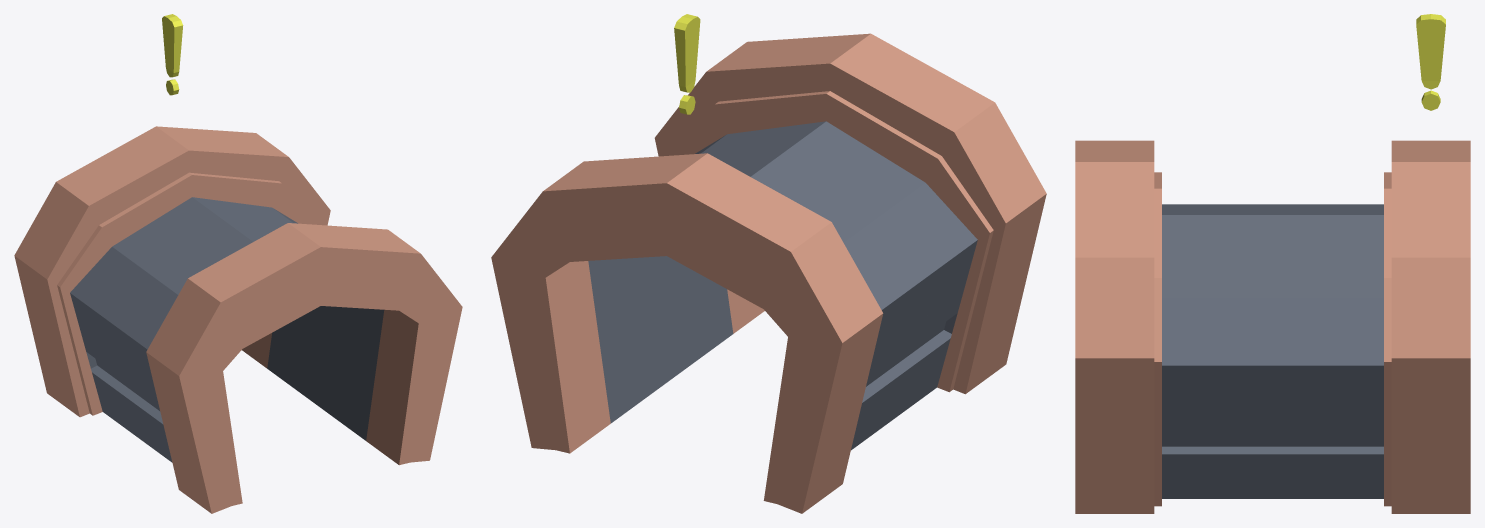
The model's file is tunnel.fbx.
3 views of the same model, side by side, from view 1: azimuth 30°, elevation 25°; view 2: azimuth 150°, elevation 25°; view 3: azimuth 270°, elevation 25° (orthographic). The views are drawn at different scales.
Parts seen in each view (by area): view 1: TunnelEnd, TunnelStart, TunnelSection.001, Warning; view 2: TunnelStart, TunnelEnd, TunnelSection.001, Warning; view 3: TunnelStart, TunnelEnd, TunnelSection.001, Warning.
Part boxes in pixels (x1,y1,x2,y2): TunnelEnd: [133, 223, 462, 513]; TunnelStart: [14, 126, 330, 433]; TunnelSection.001: [100, 219, 348, 457]; Warning: [162, 14, 183, 95]; TunnelStart: [491, 153, 899, 513]; TunnelEnd: [654, 33, 1046, 413]; TunnelSection.001: [633, 148, 940, 443]; Warning: [674, 14, 700, 114]; TunnelStart: [1312, 140, 1470, 513]; TunnelEnd: [1075, 140, 1233, 513]; TunnelSection.001: [1233, 204, 1312, 498]; Warning: [1416, 14, 1445, 110].
Bounding box in the file's own units: 496 × 605 × 500.
